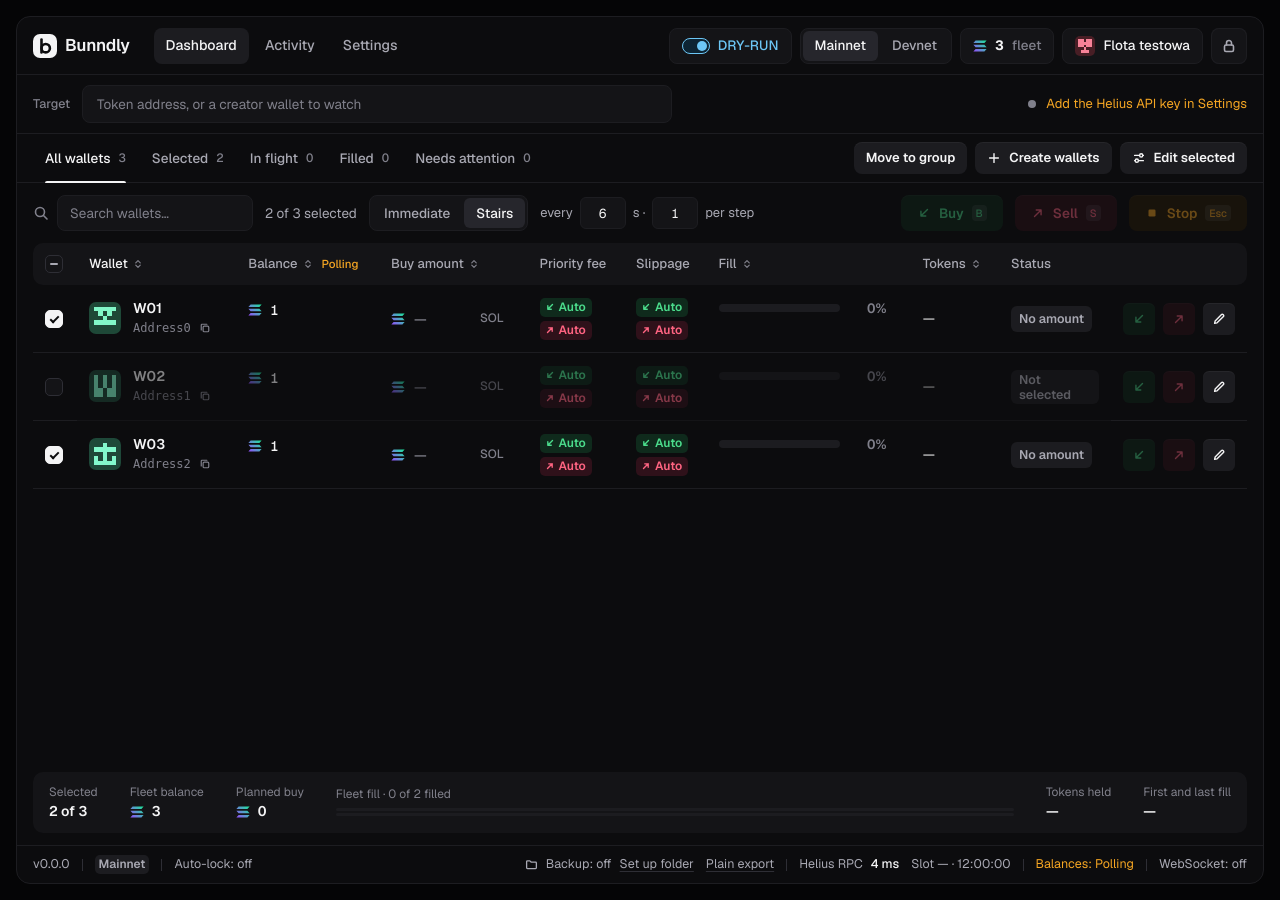
Test case: filters, search and sorting (mockup v2) › the tabs count their wallets; Selected shows only the selected ones
Step 1. Click the button "Selected 2" → [188, 158], box [140, 134, 236, 182]
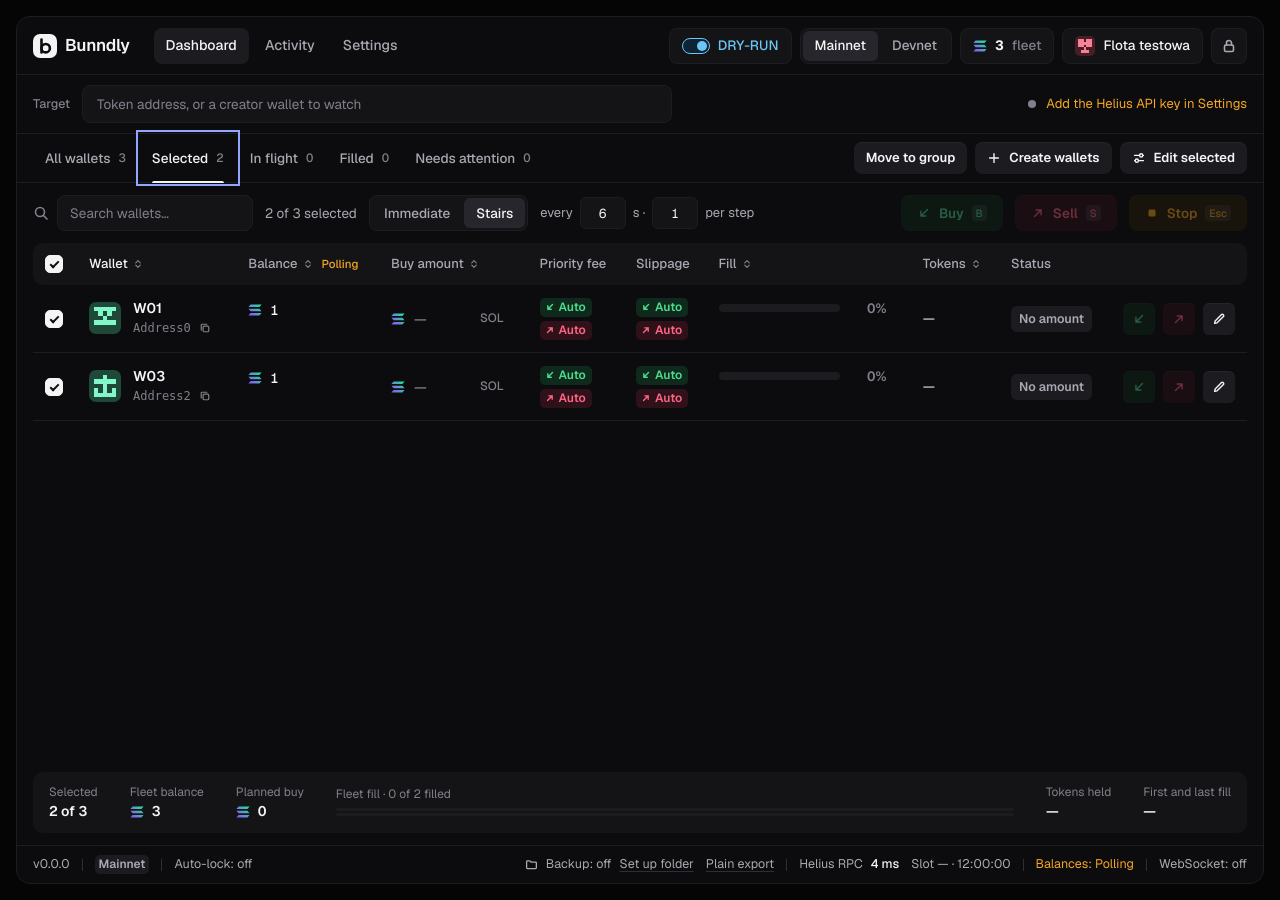
expect the button "Selected 2" is pressed: met, box [140, 134, 236, 182]
Step 2. Click the button "Needs attention 0" → [473, 158], box [403, 134, 543, 182]
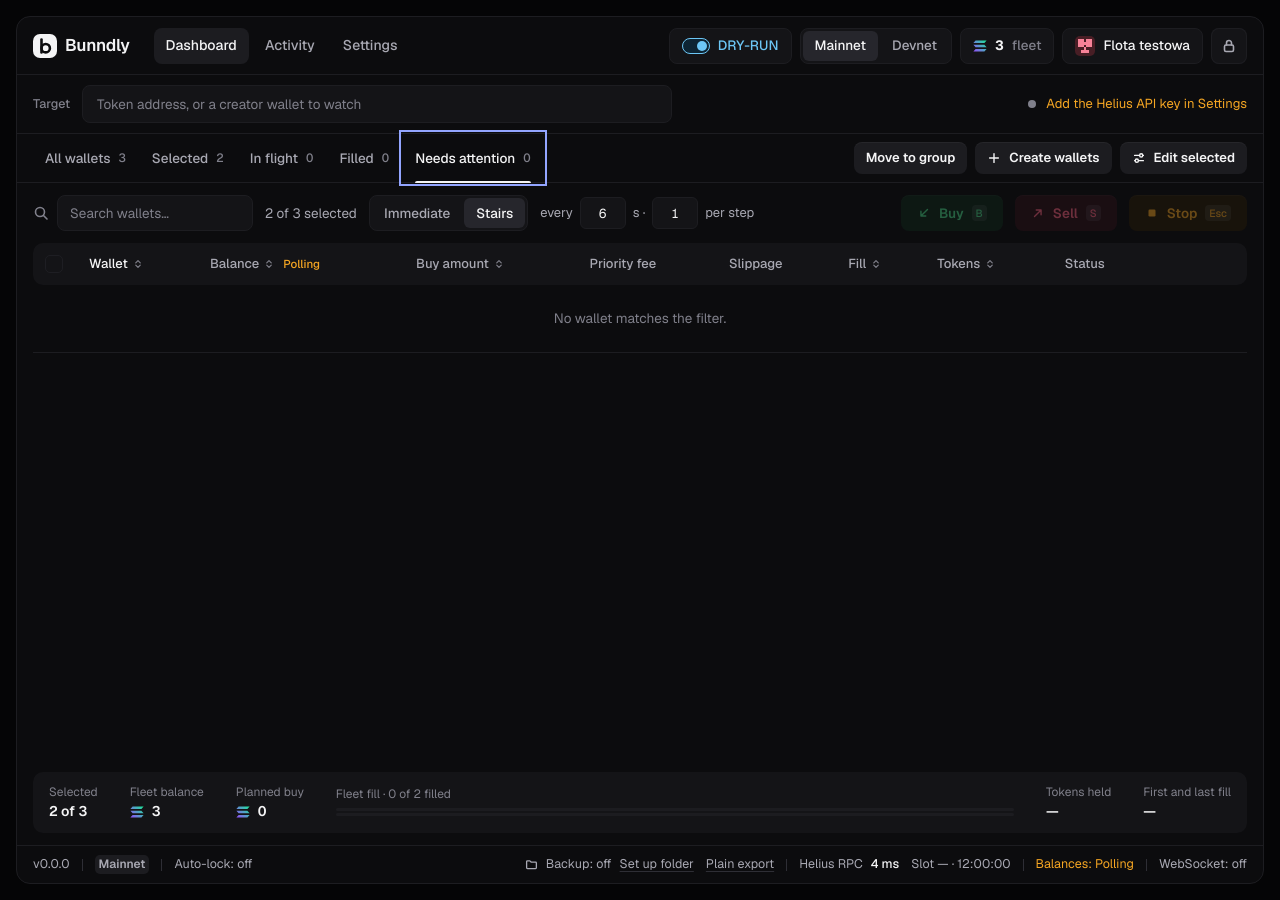
expect the text "No wallet matches the filter." is shown: met, box [33, 285, 1247, 353]
